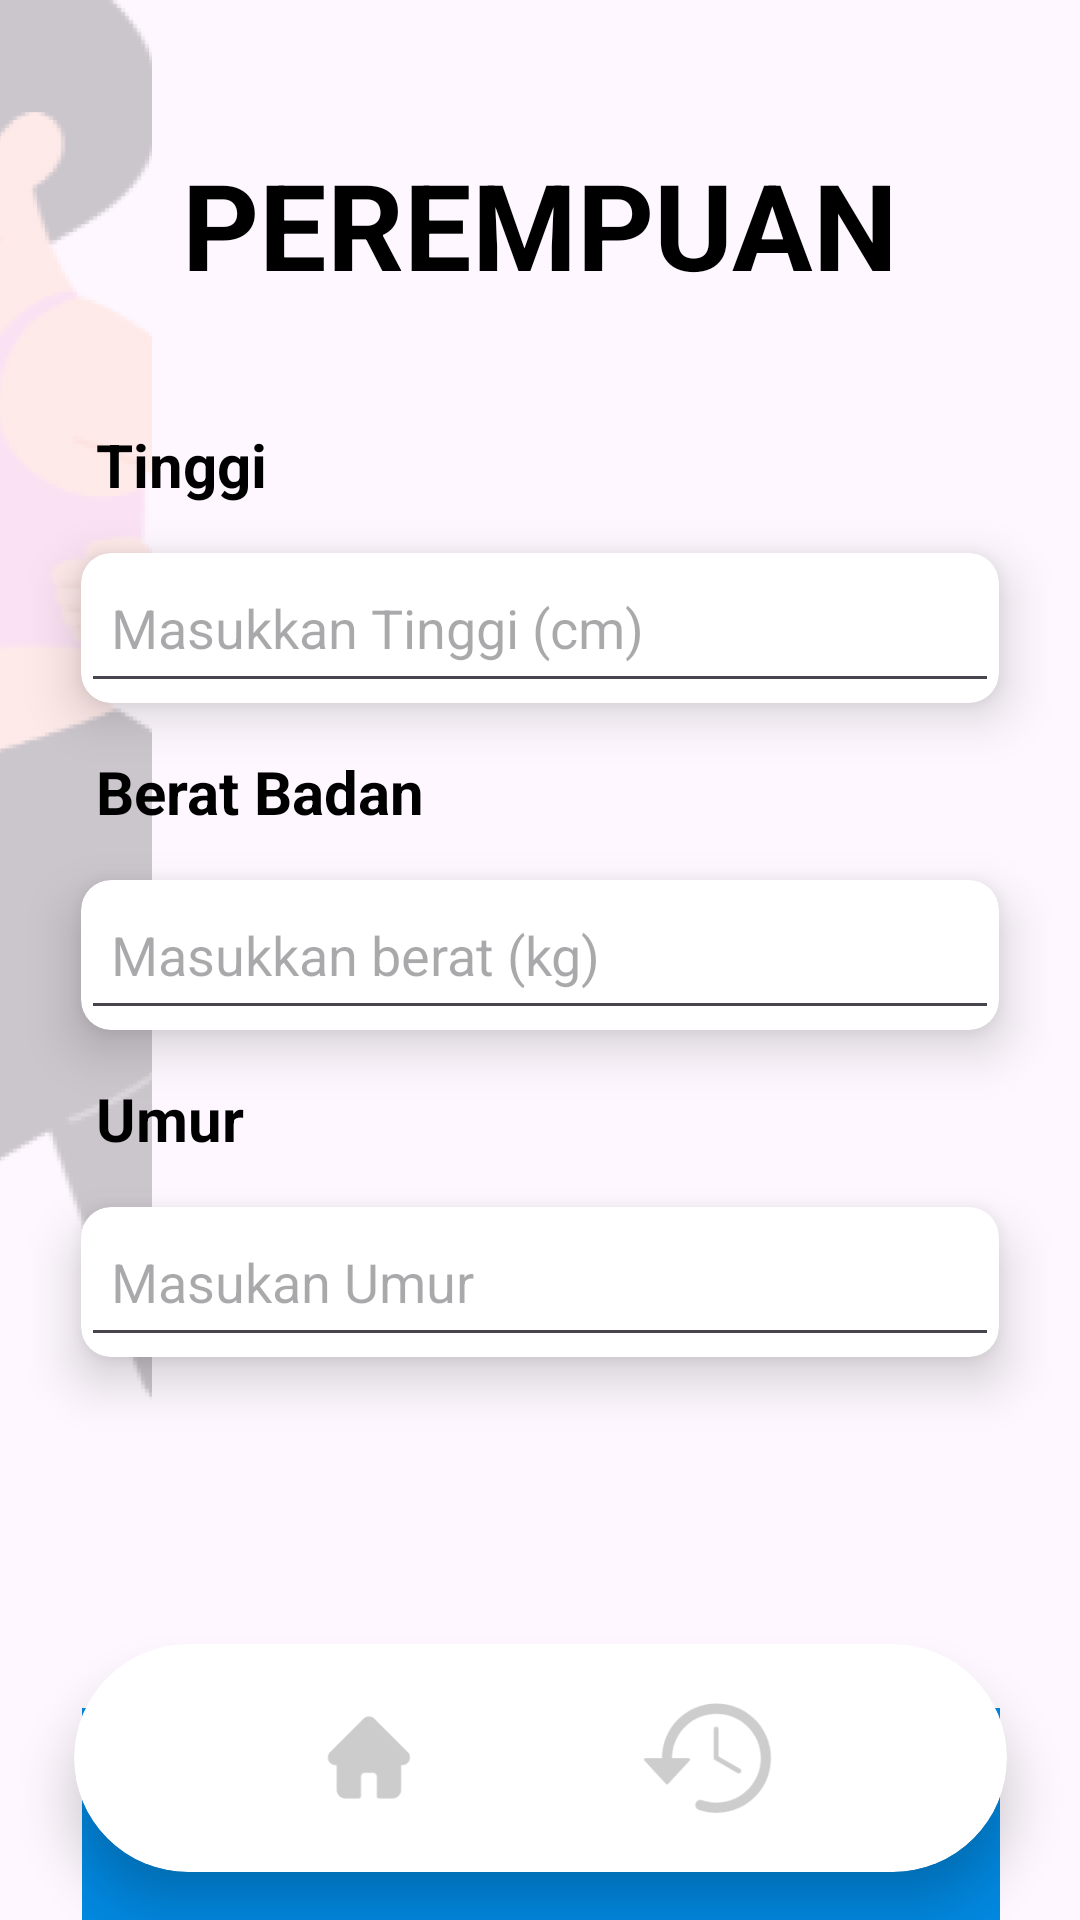

Icons on this 1080*1920 Android screen, each with its box as Rect(x1, y1, x2, y2):
Home: Rect(328, 1716, 410, 1799)
